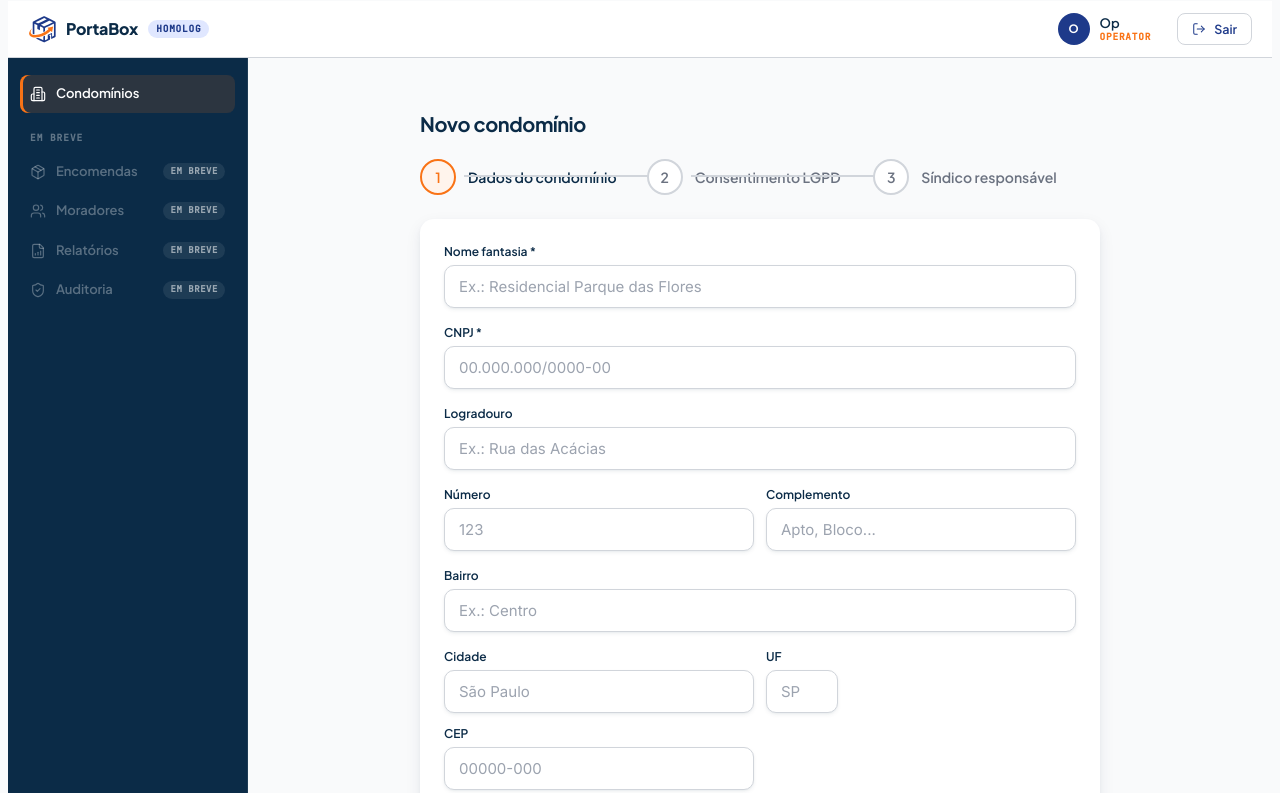
Test: NovoCondominioPage — validações de etapa 1 › impede avançar quando CNPJ tem dígito verificador inválido
The image size is (1280, 793).
Check: the heading "Novo condomínio" is shown, box top-left (420, 111), bottom-right (586, 136)
Type "Residencial Teste" into the field labelled "Nome fantasia *" at (760, 286), box top-left (444, 265), bottom-right (1076, 308)
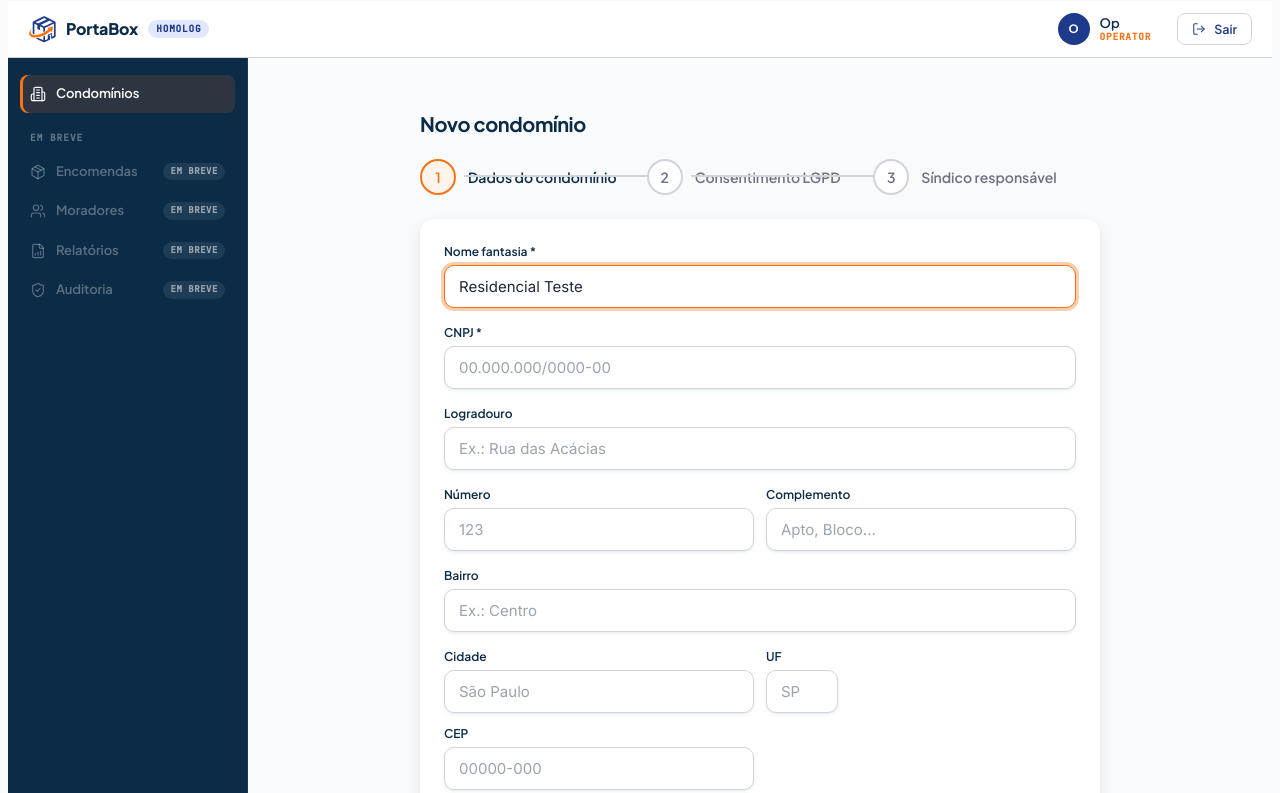
Type "11.222.333/0001-00" into the field labelled "CNPJ *" at (760, 368), box top-left (444, 346), bottom-right (1076, 389)
(page scrolled)
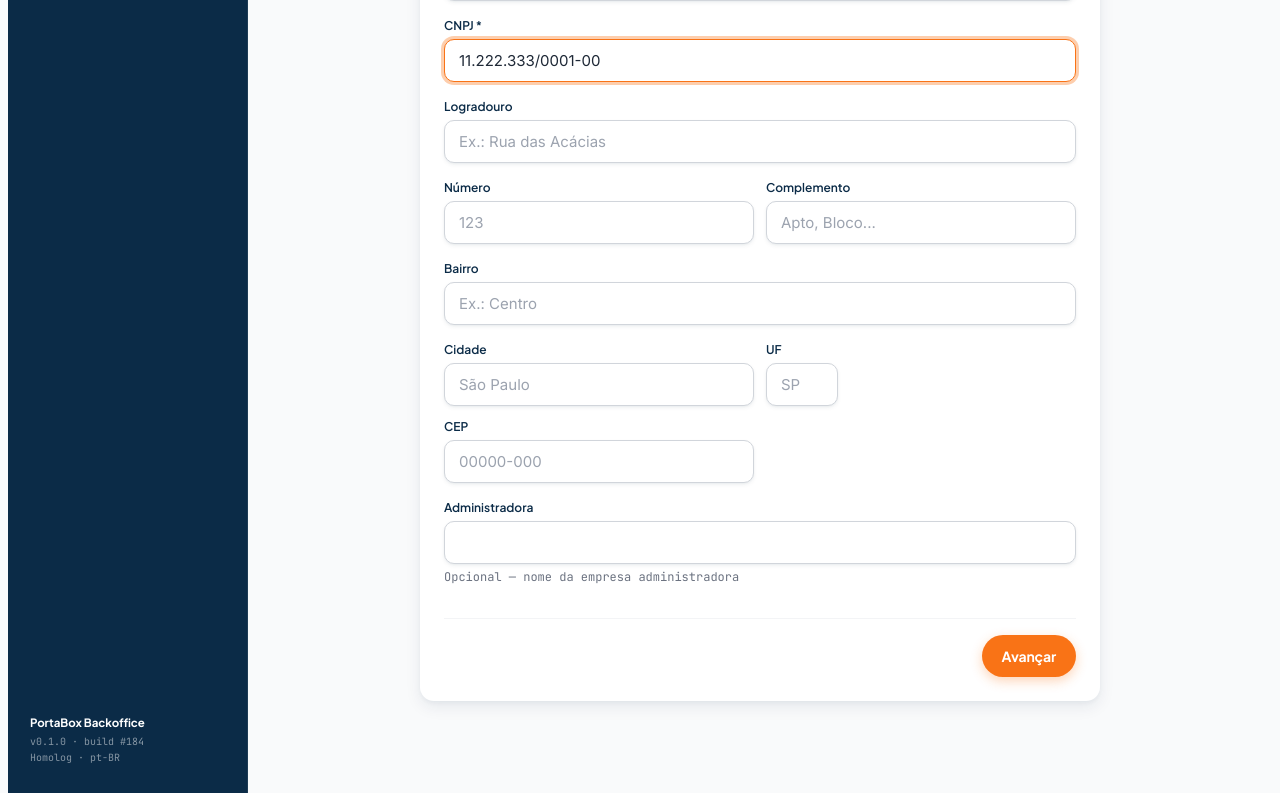
Click the button "Avançar" at (1029, 656), box top-left (982, 635), bottom-right (1076, 677)
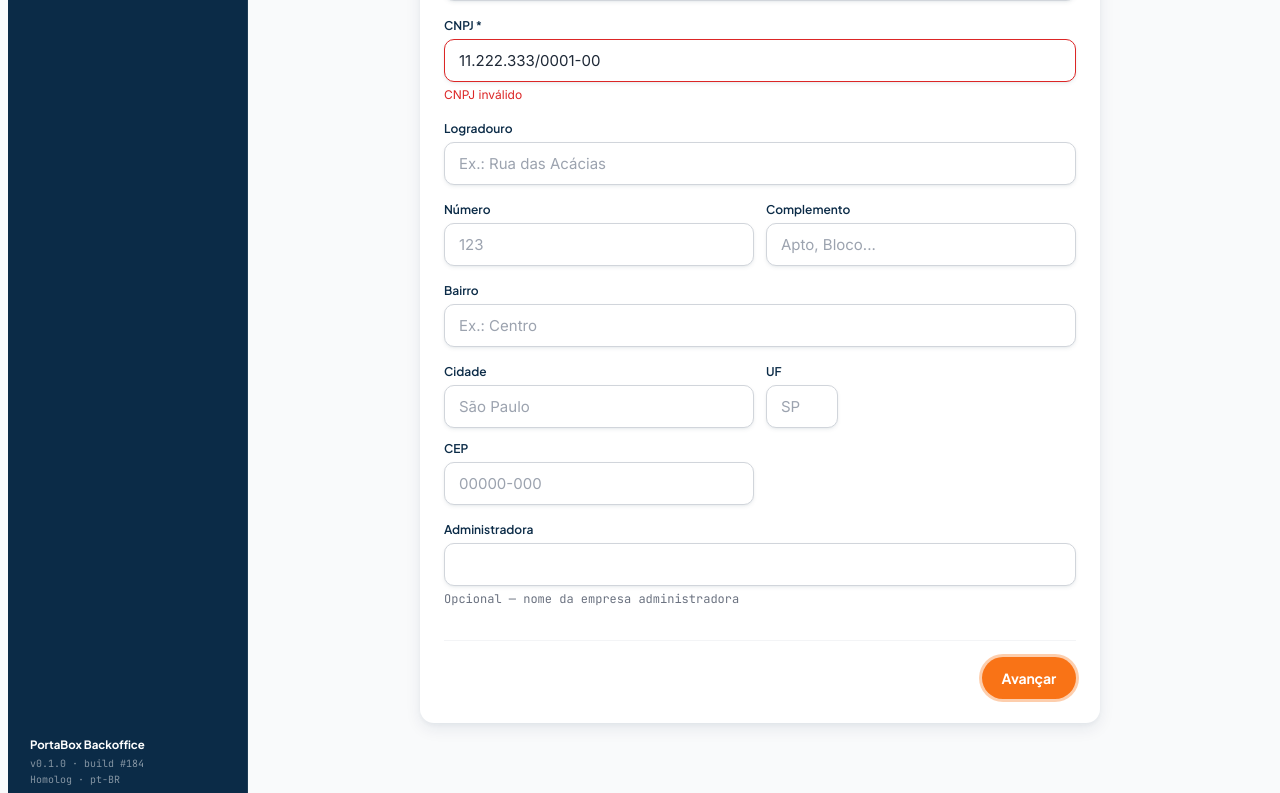
Check: the text "CNPJ inválido" is shown, box top-left (444, 87), bottom-right (522, 102)
